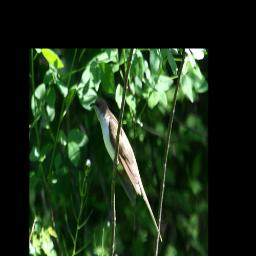Cuckoo: (90, 97, 164, 245)
